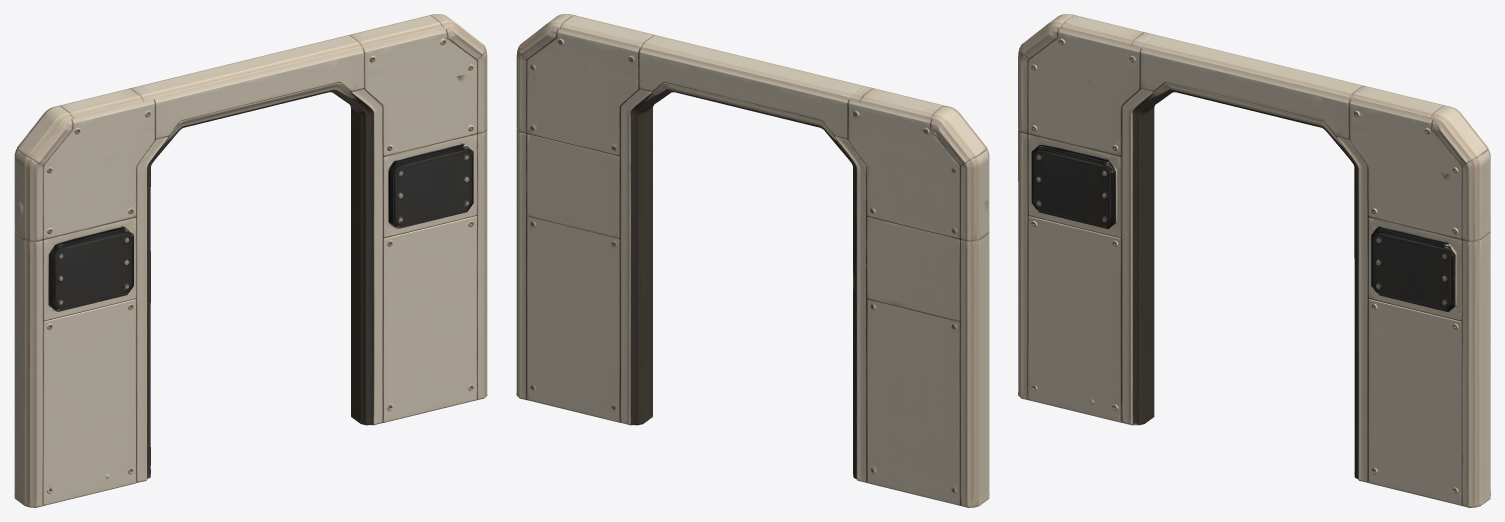
File: 混元原始模型.glb
3 renders of one model, left to right at view 1: azimuth 30°, elevation 25°; view 2: azimuth 150°, elevation 25°; view 3: azimuth 330°, elevation 25°, orthographic.
Parts seen in each view (by area): view 1: material; view 2: material; view 3: material.
Boxes of the visible parts, box(x1,y1,x2,y2) form: material: box(14, 14, 487, 507); material: box(516, 14, 989, 507); material: box(1018, 14, 1490, 507).
Bounding box in the file's own units: 0.9431 × 0.7455 × 0.0835.
Materials: 1 (1 with a texture image).
